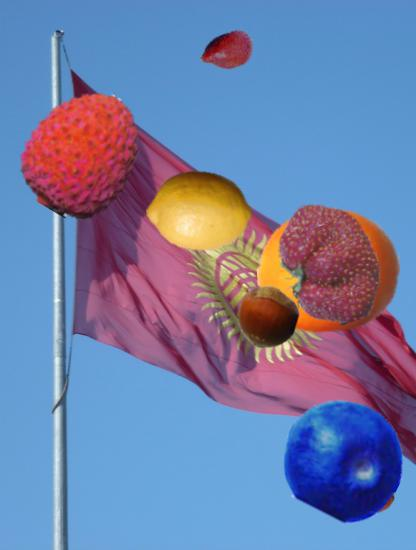Grapefruit: (257, 200, 401, 344)
Huckleberry: (283, 398, 405, 520)
Lemon: (146, 158, 251, 263)
Lychee: (17, 87, 149, 219)
Nut: (235, 284, 301, 350)
Salak: (199, 24, 256, 81)
Strawberry: (263, 199, 391, 327), (321, 453, 395, 527)
